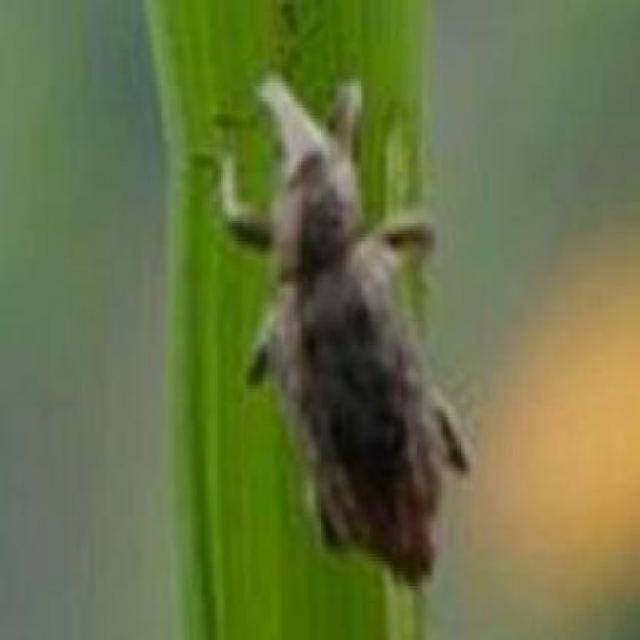rice-bug: (234, 68, 471, 594)
